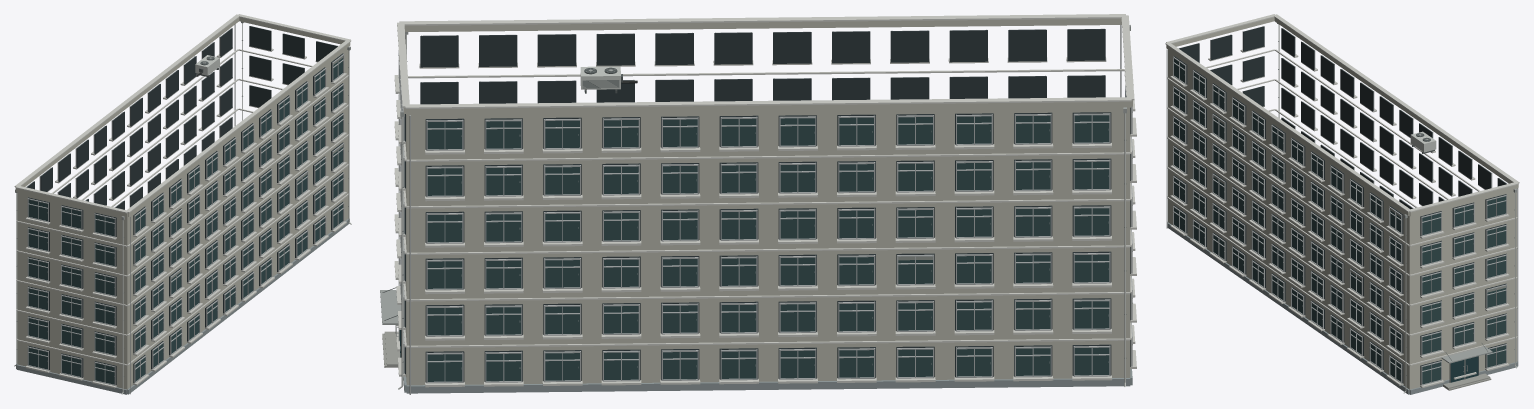
Rendered from osm_way_225265335.glb.
3 views of the same model, side by side, from view 1: azimuth 30°, elevation 25°; view 2: azimuth 150°, elevation 25°; view 3: azimuth 270°, elevation 25° (orthographic). The views are drawn at different scales.
Visible parts, largest first — view 1: Windows and facade details | osm_way_225265335, Architecture | osm_way_225265335, Roof services | osm_way_225265335, EXTERIOR::osm_way_225265335::rainwater and roof service deta; view 2: Windows and facade details | osm_way_225265335, Architecture | osm_way_225265335, Roof services | osm_way_225265335, EXTERIOR::osm_way_225265335::rainwater and roof service deta, EXTERIOR::osm_way_225265335::inferred entry doors canopy and; view 3: Windows and facade details | osm_way_225265335, Architecture | osm_way_225265335, Roof services | osm_way_225265335, EXTERIOR::osm_way_225265335::inferred entry doors canopy and, EXTERIOR::osm_way_225265335::rainwater and roof service deta.
Part boxes in pixels (x1,y1,x2,y2): Windows and facade details | osm_way_225265335: [25, 24, 346, 394]; Architecture | osm_way_225265335: [15, 17, 350, 394]; Roof services | osm_way_225265335: [14, 14, 351, 213]; EXTERIOR::osm_way_225265335::rainwater and roof service deta: [14, 21, 351, 394]; Windows and facade details | osm_way_225265335: [394, 25, 1136, 394]; Architecture | osm_way_225265335: [403, 18, 1132, 393]; Roof services | osm_way_225265335: [397, 14, 1134, 108]; EXTERIOR::osm_way_225265335::rainwater and roof service deta: [398, 25, 1132, 389]; EXTERIOR::osm_way_225265335::inferred entry doors canopy and: [380, 287, 401, 367]; Windows and facade details | osm_way_225265335: [1166, 26, 1518, 387]; Architecture | osm_way_225265335: [1166, 17, 1518, 394]; Roof services | osm_way_225265335: [1165, 14, 1519, 212]; EXTERIOR::osm_way_225265335::inferred entry doors canopy and: [1441, 343, 1492, 390]; EXTERIOR::osm_way_225265335::rainwater and roof service deta: [1277, 23, 1516, 393].
Size of the model in its own units: 45.47 by 20.58 by 34.43.
